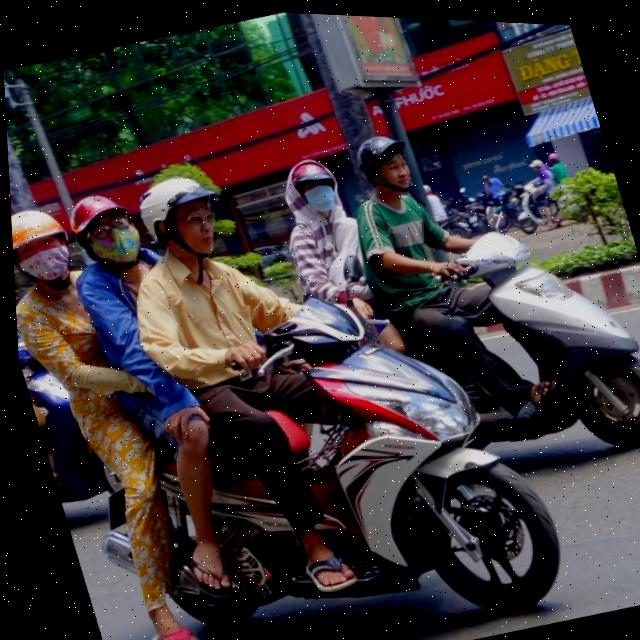motorcycle: (33, 234, 587, 640), (346, 167, 640, 502)
